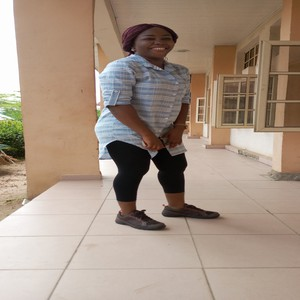Fulokoja_female_student: (105, 27, 206, 215)
